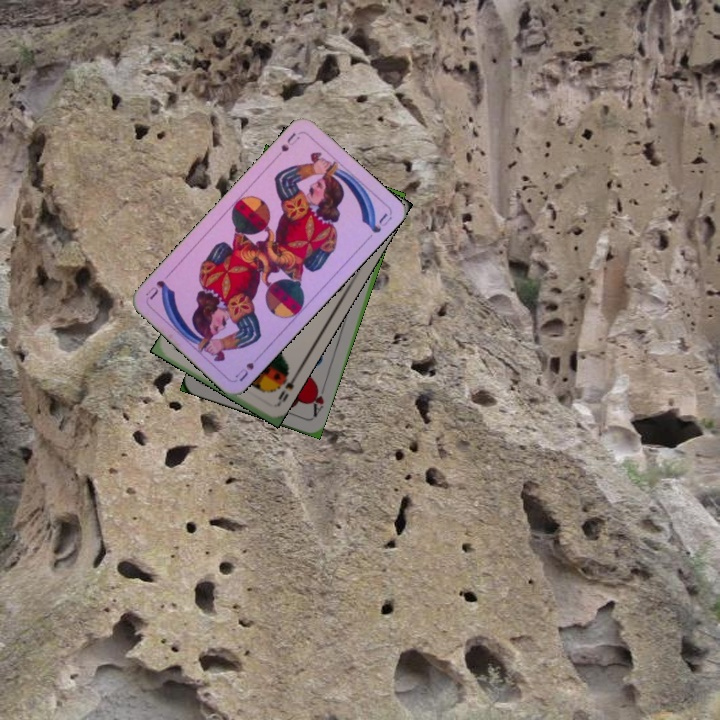HA: (307, 381, 327, 420)
SO: (271, 368, 299, 409)
SU: (231, 350, 264, 384), (277, 128, 302, 154)
